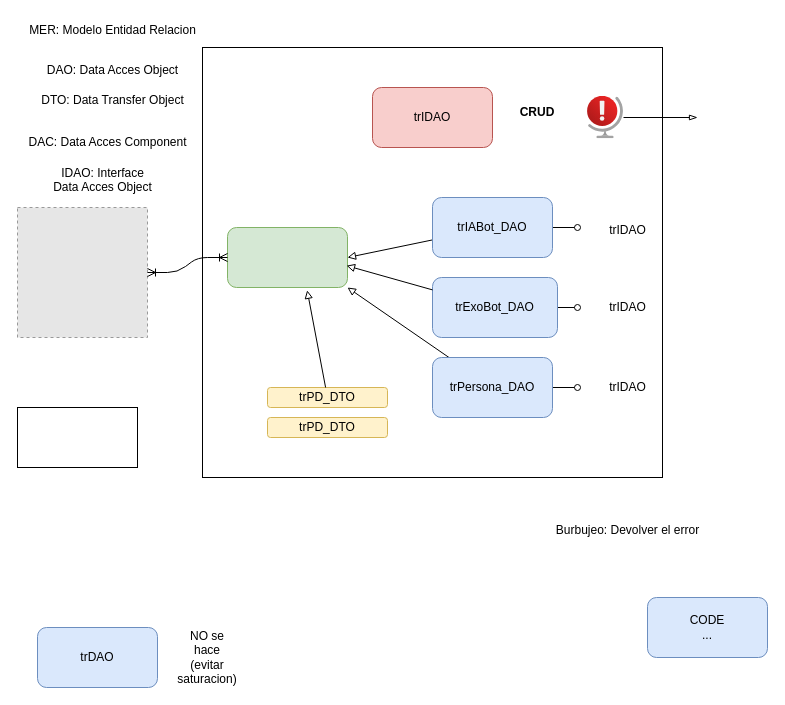
Image size: 785x705. Some labels were removed from this diagram. Grey dashed boxes stand in for pictures. Each missing label, with the centre of its shape:
"<<abstract>> trSQLiteDataHelper" goes at pixel 287 257.
"trPD trPersonaTipo trPersona" goes at pixel 77 437.
